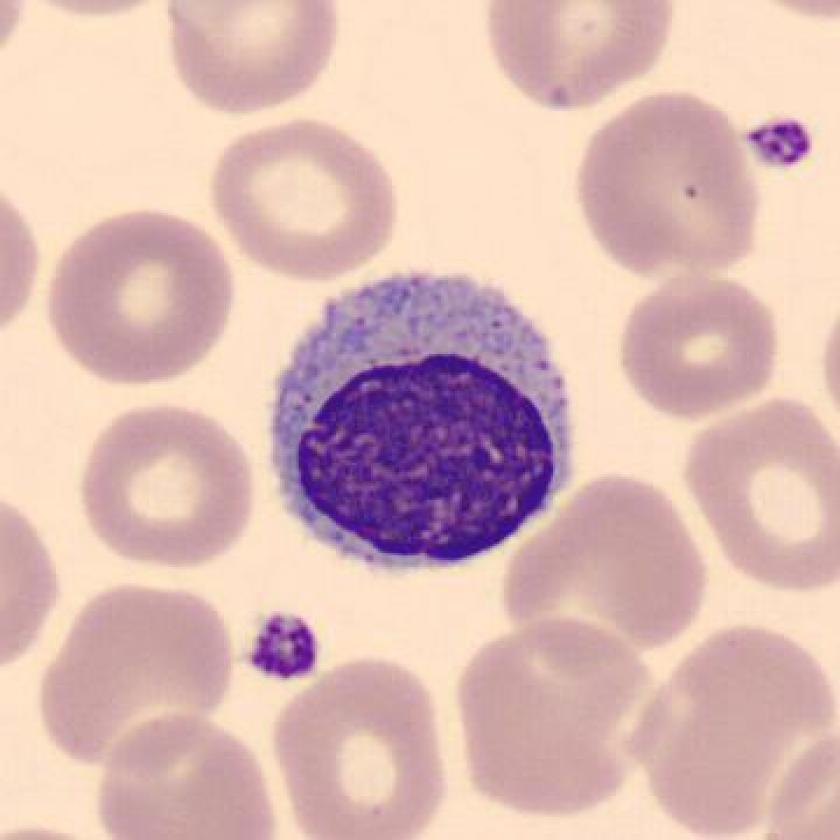lymphocyte: (255, 260, 594, 582)
